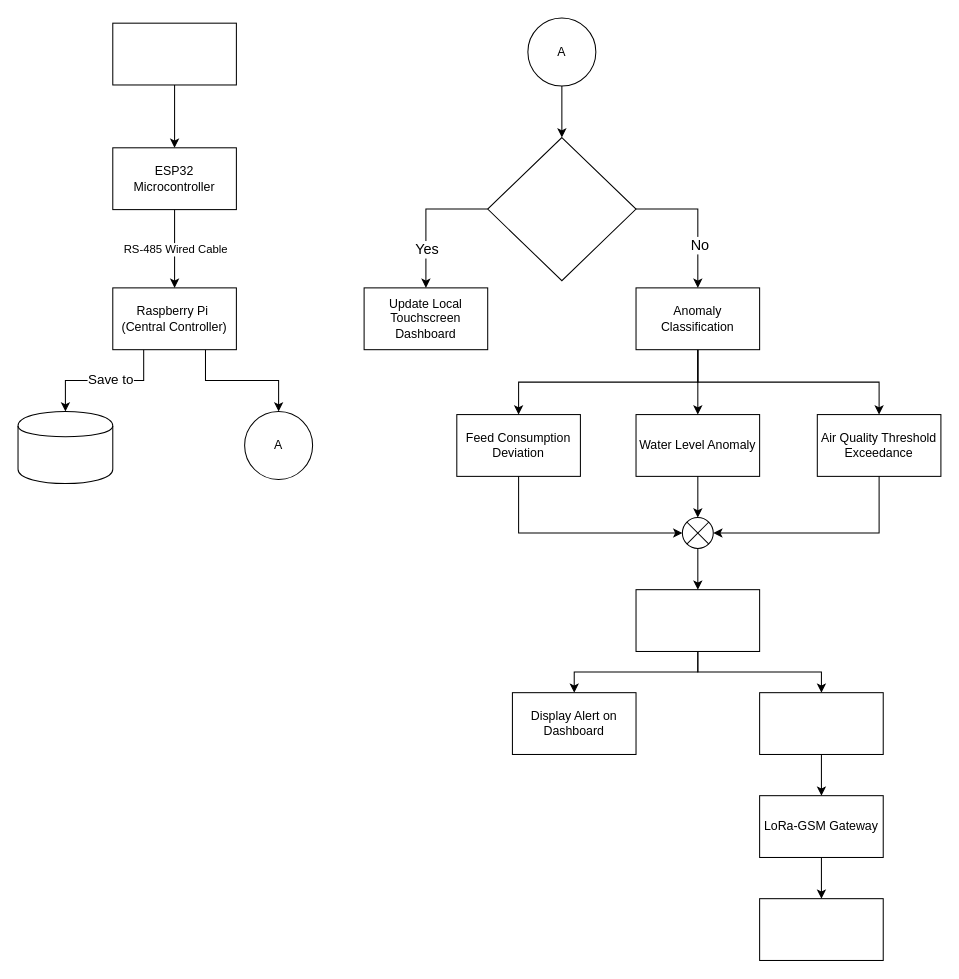
The diagram is 959 pixels wide and 979 high, and some of its shapes have lost their labels. Here are the shapes that lost their labels. From the top down, the box of each, then its label:
(112, 22, 236, 85): Sensors: Feed, Water, Air Quality
(487, 136, 636, 281): Is the Data Normal?
(17, 410, 113, 484): Local Database
(635, 589, 760, 651): General Alert
(759, 692, 883, 754): Transmit Alert via LoRa
(759, 898, 883, 960): Send SMS to Caretaker's Phone
